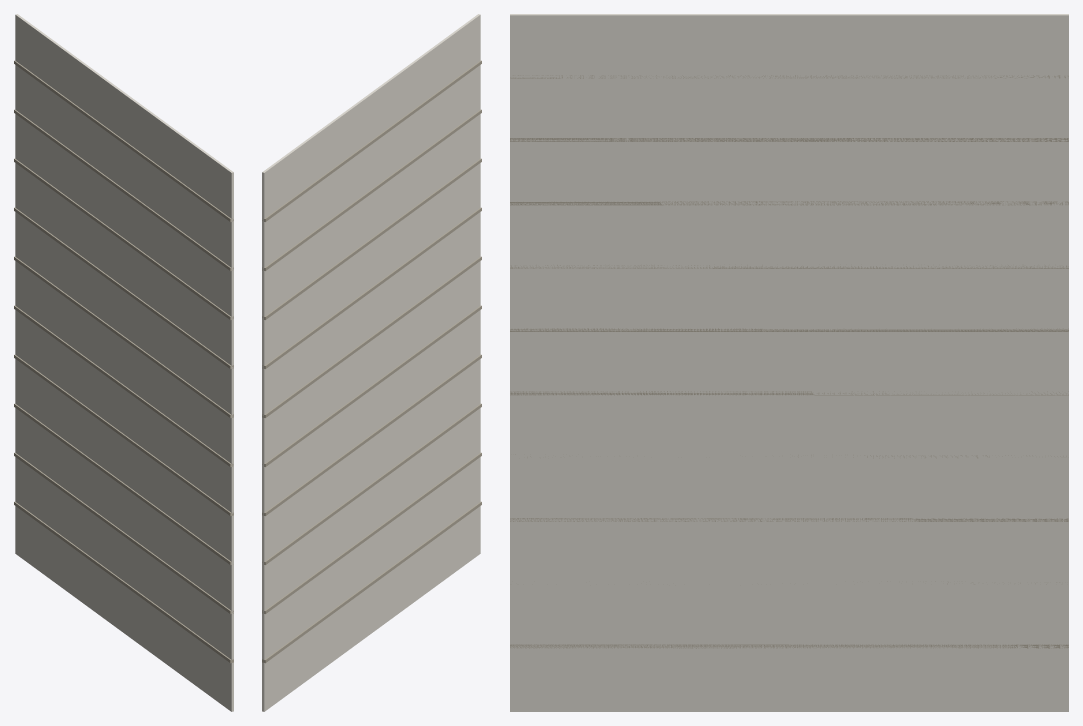
The model's file is height_chart.glb.
The picture shows the model from 3 angles, left to right: view 1: azimuth 30°, elevation 25°; view 2: azimuth 150°, elevation 25°; view 3: azimuth 270°, elevation 25°; orthographic projection. The views are drawn at different scales.
Parts seen in each view (by area): view 1: height_chart; view 2: height_chart; view 3: height_chart.
Part boxes in pixels (x1,y1,x2,y2): height_chart: (14,14,233,711); height_chart: (262,14,481,711); height_chart: (510,14,1068,711).
Size of the model in its own units: 0.015 by 2.2 by 1.6.
Materials: 1 (1 with a texture image).
